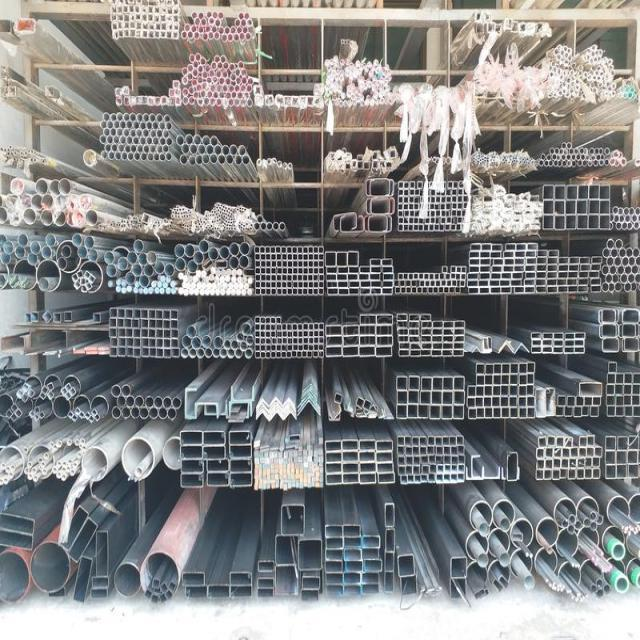pipe: (141, 552, 178, 604), (31, 543, 70, 592), (0, 552, 29, 604), (123, 438, 154, 480), (69, 517, 97, 562), (60, 506, 88, 549), (115, 563, 141, 596), (83, 448, 108, 480), (74, 558, 92, 602), (493, 500, 515, 532), (0, 514, 34, 534), (300, 540, 321, 571), (276, 537, 299, 565), (470, 501, 493, 528), (282, 506, 304, 534), (510, 549, 532, 577), (511, 520, 533, 548), (555, 528, 577, 555), (467, 532, 488, 560), (537, 518, 558, 546), (607, 497, 628, 524), (488, 560, 510, 585), (276, 568, 297, 594), (535, 548, 557, 572), (1, 532, 31, 549), (96, 531, 107, 575), (164, 439, 179, 468), (91, 397, 108, 418), (53, 396, 70, 417), (183, 572, 205, 585), (203, 446, 225, 459), (181, 474, 203, 487), (0, 395, 13, 417), (451, 579, 466, 598), (536, 389, 546, 417), (230, 432, 251, 445), (181, 446, 202, 459), (231, 460, 252, 473), (399, 558, 415, 575), (401, 578, 417, 595), (452, 558, 467, 576), (630, 495, 640, 522), (203, 433, 226, 444), (181, 432, 202, 444), (207, 473, 228, 485), (230, 474, 251, 486), (230, 446, 252, 457), (182, 461, 204, 472), (580, 384, 602, 395), (73, 396, 90, 410), (186, 587, 207, 598), (612, 542, 625, 559), (231, 573, 251, 584), (207, 460, 229, 470), (509, 454, 517, 481), (209, 587, 230, 597), (547, 389, 555, 415), (326, 573, 343, 585), (386, 504, 394, 528), (616, 575, 628, 591), (623, 311, 639, 323), (363, 536, 380, 547), (326, 586, 344, 596), (232, 587, 251, 596), (303, 577, 320, 587), (325, 526, 342, 536), (343, 526, 360, 536), (326, 549, 343, 559), (344, 573, 361, 583), (603, 325, 617, 337), (604, 340, 618, 352), (625, 339, 639, 351), (346, 561, 364, 570), (362, 573, 380, 582), (302, 590, 318, 600), (326, 561, 342, 571), (387, 530, 395, 550), (93, 577, 109, 587), (377, 452, 393, 462), (602, 311, 615, 323), (499, 552, 510, 566), (430, 405, 441, 419), (327, 538, 344, 547), (345, 549, 362, 558), (362, 549, 379, 558), (365, 561, 382, 570), (344, 586, 361, 595), (359, 441, 376, 450), (385, 573, 393, 592), (385, 553, 393, 572), (259, 562, 274, 572), (377, 441, 392, 451), (326, 326, 342, 335), (343, 326, 359, 335), (360, 325, 376, 334), (376, 326, 392, 335), (343, 336, 359, 345), (326, 347, 342, 356), (359, 451, 375, 460), (377, 463, 393, 472), (616, 464, 627, 477), (397, 391, 408, 404), (454, 392, 465, 405), (453, 406, 464, 419), (325, 253, 336, 266), (493, 578, 503, 592), (349, 252, 359, 266), (344, 538, 361, 546), (362, 585, 379, 593), (359, 464, 376, 472), (361, 315, 376, 324), (377, 315, 392, 324), (377, 347, 392, 356), (431, 392, 442, 404), (623, 325, 635, 336), (577, 201, 588, 213), (525, 575, 535, 588), (629, 437, 639, 450), (606, 451, 616, 464), (397, 377, 407, 390), (410, 377, 420, 390), (432, 378, 442, 391), (443, 378, 453, 391), (442, 391, 452, 404), (408, 405, 418, 418), (442, 406, 452, 419), (121, 405, 131, 418), (544, 200, 554, 213), (578, 216, 588, 229), (360, 337, 376, 345), (377, 337, 393, 345), (326, 442, 342, 450), (342, 441, 358, 449), (342, 453, 358, 461), (326, 464, 342, 472), (360, 474, 376, 482), (480, 522, 489, 536), (600, 216, 609, 230), (327, 337, 342, 345), (343, 348, 358, 356), (360, 347, 375, 355), (499, 576, 509, 588), (606, 437, 616, 449), (618, 438, 628, 450), (628, 451, 638, 463), (628, 465, 638, 477), (326, 452, 341, 460), (343, 464, 358, 472), (327, 475, 342, 483), (422, 378, 432, 390), (454, 378, 464, 390), (409, 391, 419, 403), (421, 392, 431, 404), (418, 405, 428, 417), (337, 253, 347, 265), (565, 216, 575, 228), (589, 216, 599, 228), (589, 202, 599, 214), (378, 474, 395, 481), (478, 553, 487, 566), (606, 465, 615, 478), (397, 405, 406, 418), (544, 186, 553, 199), (555, 216, 564, 229), (600, 200, 609, 213), (566, 200, 575, 213), (599, 186, 608, 199), (92, 590, 108, 597), (343, 475, 359, 482), (567, 187, 577, 198), (617, 451, 626, 463), (544, 216, 553, 228), (555, 202, 564, 214), (556, 187, 565, 199), (589, 186, 598, 198), (258, 579, 273, 586), (356, 397, 364, 410), (475, 589, 485, 599), (159, 407, 168, 418), (112, 385, 121, 396), (258, 590, 274, 596), (527, 396, 535, 408), (173, 397, 181, 409), (150, 406, 158, 418), (118, 394, 126, 406), (154, 397, 163, 407), (145, 397, 154, 407), (140, 408, 149, 418), (135, 397, 144, 407), (579, 187, 588, 197), (501, 519, 509, 530), (537, 448, 545, 459), (609, 362, 617, 373), (519, 397, 527, 408), (168, 408, 176, 419), (163, 397, 171, 408), (126, 396, 134, 407), (122, 385, 130, 396), (113, 407, 121, 418), (364, 399, 371, 411), (567, 397, 576, 406), (93, 313, 101, 323), (160, 583, 168, 593), (553, 448, 561, 458), (545, 460, 553, 470), (632, 373, 640, 383), (624, 385, 632, 395), (615, 384, 623, 394), (616, 396, 624, 406), (625, 407, 633, 417), (477, 364, 485, 374), (510, 364, 518, 374), (527, 363, 535, 373), (468, 387, 476, 397), (501, 397, 509, 407), (509, 397, 517, 407), (469, 409, 477, 419), (493, 408, 501, 418), (454, 328, 465, 335), (574, 407, 581, 418), (591, 406, 598, 417), (132, 407, 139, 418), (141, 338, 149, 347), (152, 579, 160, 588), (603, 584, 611, 593), (596, 588, 604, 597), (586, 448, 594, 457), (553, 459, 561, 468), (577, 459, 585, 468), (592, 469, 600, 478), (624, 375, 632, 384), (624, 396, 632, 405), (615, 408, 624, 416), (576, 397, 584, 406), (556, 407, 565, 415), (485, 365, 493, 374), (494, 365, 502, 374), (502, 365, 510, 374), (477, 376, 485, 385), (493, 376, 501, 385), (510, 375, 518, 384), (501, 386, 509, 395), (510, 386, 518, 395), (518, 386, 526, 395), (484, 398, 492, 407), (485, 408, 493, 417), (502, 409, 510, 418), (519, 409, 527, 418), (157, 348, 164, 358), (171, 338, 178, 348), (164, 348, 171, 358), (398, 335, 408, 342), (421, 335, 431, 342), (433, 329, 443, 336), (432, 349, 442, 356), (562, 448, 569, 458), (562, 459, 569, 469), (585, 468, 592, 478), (607, 384, 614, 394), (607, 395, 614, 405), (633, 396, 640, 406), (608, 406, 615, 416), (633, 407, 640, 417), (558, 396, 565, 406), (582, 407, 589, 417), (519, 364, 526, 374), (527, 374, 534, 384), (477, 408, 484, 418), (350, 281, 360, 288), (349, 288, 359, 295), (490, 280, 500, 287), (514, 287, 524, 294), (536, 286, 546, 293), (409, 314, 420, 320), (421, 322, 432, 328), (444, 322, 455, 328), (442, 350, 453, 356), (512, 534, 523, 540), (383, 274, 394, 280), (514, 266, 525, 272), (511, 280, 522, 286), (118, 347, 126, 355), (149, 329, 157, 337), (172, 349, 180, 357), (163, 339, 171, 347), (165, 591, 173, 599), (536, 471, 544, 479), (616, 375, 624, 383), (632, 385, 640, 393), (593, 397, 601, 405), (501, 376, 509, 384), (484, 387, 492, 395), (468, 399, 476, 407), (111, 308, 118, 317), (126, 309, 133, 318), (132, 319, 139, 328), (134, 329, 141, 338), (126, 338, 133, 347), (142, 348, 149, 357), (149, 348, 156, 357), (156, 338, 163, 347), (171, 329, 178, 338), (575, 520, 582, 529), (539, 438, 546, 447), (557, 438, 564, 447), (579, 448, 586, 457), (595, 448, 602, 457), (585, 458, 592, 467), (577, 469, 584, 478), (486, 376, 493, 385), (493, 387, 500, 396), (527, 386, 534, 395), (476, 398, 483, 407), (493, 398, 500, 407), (528, 409, 535, 418), (548, 258, 557, 265), (548, 272, 557, 279), (397, 314, 407, 320), (421, 314, 431, 320), (409, 321, 419, 327), (433, 322, 443, 328), (398, 329, 408, 335), (400, 343, 410, 349), (410, 336, 420, 342), (444, 329, 454, 335), (422, 344, 432, 350), (433, 343, 443, 349), (454, 344, 464, 350), (590, 511, 596, 521), (477, 387, 483, 397), (336, 394, 342, 404), (531, 333, 541, 339), (543, 333, 553, 339), (542, 340, 552, 346), (592, 257, 602, 263), (580, 258, 590, 264), (327, 267, 337, 273), (338, 267, 348, 273), (349, 267, 359, 273), (371, 266, 381, 272), (361, 281, 371, 287), (372, 281, 382, 287), (383, 281, 393, 287), (328, 289, 338, 295), (339, 289, 349, 295), (360, 288, 370, 294), (482, 245, 492, 251), (470, 252, 480, 258), (470, 259, 480, 265), (470, 266, 480, 272), (468, 280, 478, 286), (469, 287, 479, 293), (480, 287, 490, 293), (478, 280, 488, 286), (480, 259, 490, 265), (505, 258, 515, 264), (515, 259, 525, 265), (525, 288, 535, 294), (526, 265, 536, 271), (527, 258, 537, 264), (526, 251, 536, 257), (537, 258, 547, 264), (537, 265, 547, 271), (536, 279, 546, 285), (548, 266, 558, 272), (559, 265, 569, 271), (580, 265, 590, 271), (579, 272, 589, 278), (589, 272, 599, 278), (578, 286, 588, 292), (134, 310, 141, 318), (149, 310, 156, 318), (156, 311, 163, 319), (163, 310, 170, 318), (110, 329, 117, 337), (118, 338, 125, 346), (125, 319, 132, 327), (127, 348, 134, 356), (141, 320, 148, 328), (141, 329, 148, 337), (156, 330, 163, 338), (156, 320, 163, 328), (171, 320, 178, 328), (164, 330, 171, 338), (145, 590, 152, 598), (169, 582, 176, 590), (596, 579, 603, 587), (568, 515, 575, 523), (548, 437, 555, 445), (565, 439, 572, 447), (580, 438, 587, 446), (587, 437, 594, 445), (570, 449, 577, 457), (537, 461, 544, 469), (569, 460, 576, 468), (593, 458, 600, 466), (569, 470, 576, 478), (561, 469, 568, 477), (553, 470, 560, 478), (545, 470, 552, 478), (397, 437, 404, 445), (405, 437, 412, 445), (428, 437, 435, 445), (449, 437, 456, 445), (398, 447, 405, 455), (413, 447, 420, 455), (420, 446, 427, 454), (427, 447, 434, 455), (444, 447, 451, 455), (398, 456, 405, 464), (406, 457, 413, 465), (421, 456, 428, 464), (429, 457, 436, 465), (436, 456, 444, 463), (458, 456, 465, 464), (437, 466, 444, 474), (444, 465, 451, 473), (436, 475, 443, 483), (585, 397, 592, 405), (565, 407, 572, 415), (519, 375, 526, 383), (511, 409, 518, 417), (28, 389, 35, 397), (455, 323, 466, 328), (421, 330, 432, 335), (454, 336, 465, 341), (289, 435, 300, 440), (326, 275, 337, 280), (524, 280, 535, 285), (569, 266, 580, 271), (118, 308, 124, 317), (142, 310, 148, 319), (134, 348, 140, 357), (546, 448, 552, 457), (136, 467, 142, 476), (48, 382, 54, 391), (575, 340, 584, 346), (591, 264, 600, 270), (492, 266, 501, 272), (501, 280, 510, 286), (537, 273, 546, 279), (592, 286, 601, 292), (398, 322, 408, 327), (409, 330, 419, 335), (400, 351, 410, 356), (411, 344, 421, 349), (432, 337, 442, 342), (443, 337, 453, 342), (443, 344, 453, 349), (454, 351, 464, 356), (565, 334, 575, 339), (575, 333, 585, 338), (532, 340, 542, 345), (553, 341, 563, 346), (543, 347, 553, 352), (553, 348, 563, 353), (564, 347, 574, 352), (575, 347, 585, 352), (361, 267, 371, 272), (371, 260, 381, 265), (382, 260, 392, 265), (383, 267, 393, 272), (337, 275, 347, 280), (348, 274, 358, 279), (359, 274, 369, 279), (370, 274, 380, 279), (327, 282, 337, 287), (371, 289, 381, 294), (383, 288, 393, 293), (471, 245, 481, 250), (468, 274, 478, 279), (480, 274, 490, 279), (480, 267, 490, 272), (491, 252, 501, 257), (492, 246, 502, 251), (493, 260, 503, 265), (504, 252, 514, 257), (515, 252, 525, 257), (512, 273, 522, 278), (526, 273, 536, 278), (528, 245, 538, 250), (537, 251, 547, 256), (548, 251, 558, 256), (547, 280, 557, 285), (548, 286, 558, 291), (559, 258, 569, 263), (558, 287, 568, 292), (578, 280, 588, 285), (435, 438, 442, 445), (405, 467, 412, 474), (413, 466, 420, 473), (171, 311, 177, 319), (110, 319, 116, 327), (111, 338, 117, 346), (111, 348, 117, 356), (119, 328, 125, 336), (118, 319, 124, 327), (126, 328, 132, 336), (134, 338, 140, 346), (150, 320, 156, 328), (150, 339, 156, 347), (584, 518, 590, 526), (413, 437, 419, 445), (443, 437, 449, 445), (457, 437, 463, 445), (406, 447, 412, 455), (451, 447, 457, 455), (414, 457, 420, 465), (451, 456, 457, 464), (399, 466, 405, 474), (423, 466, 429, 474), (458, 465, 464, 473), (401, 476, 407, 484), (415, 475, 421, 483), (422, 475, 428, 483), (429, 475, 435, 483), (65, 383, 71, 391), (47, 391, 53, 399), (23, 383, 29, 391), (22, 394, 28, 402), (16, 409, 22, 417), (502, 287, 510, 293), (554, 334, 563, 339), (565, 341, 574, 346), (532, 347, 541, 352), (339, 282, 348, 287), (480, 252, 489, 257), (492, 274, 501, 279), (502, 274, 511, 279), (558, 273, 567, 278), (558, 279, 567, 284), (569, 273, 578, 278), (570, 259, 579, 264), (591, 280, 600, 285), (421, 350, 432, 354), (151, 595, 157, 602), (160, 594, 166, 601), (597, 516, 603, 523), (591, 522, 597, 529), (568, 525, 574, 532), (437, 447, 443, 454), (444, 457, 451, 463), (430, 466, 436, 473), (451, 465, 457, 472), (451, 474, 457, 481), (42, 386, 48, 393), (17, 390, 23, 397), (6, 410, 12, 417), (11, 414, 17, 421), (164, 320, 169, 328), (412, 351, 420, 356), (591, 583, 596, 591), (421, 438, 426, 446), (458, 446, 463, 454), (408, 475, 413, 483), (70, 387, 75, 395), (491, 289, 501, 293), (504, 266, 514, 270), (506, 245, 516, 249), (516, 245, 526, 249), (562, 521, 568, 527), (444, 475, 450, 481), (34, 407, 40, 413), (29, 411, 35, 417), (292, 351, 298, 357), (276, 247, 282, 253), (568, 280, 577, 284), (72, 414, 77, 421), (68, 411, 73, 418), (39, 411, 44, 418), (12, 404, 17, 411), (304, 338, 309, 345), (288, 268, 293, 275), (287, 282, 292, 289), (548, 546, 552, 554), (569, 287, 577, 291), (458, 475, 463, 481), (70, 469, 75, 475), (61, 474, 66, 480), (38, 457, 43, 463), (92, 409, 97, 415), (75, 408, 80, 414), (62, 388, 67, 394), (66, 392, 71, 398), (40, 392, 45, 398), (34, 414, 39, 420), (276, 325, 282, 330), (255, 331, 260, 337), (260, 331, 265, 337), (266, 331, 271, 337), (271, 331, 276, 337), (277, 331, 282, 337), (293, 331, 298, 337), (319, 331, 324, 337), (255, 338, 260, 344), (261, 339, 266, 345), (266, 339, 271, 345), (272, 339, 277, 345), (288, 338, 293, 344), (287, 345, 293, 350), (271, 352, 276, 358), (276, 352, 281, 358), (255, 247, 260, 253), (260, 247, 265, 253), (266, 247, 271, 253), (287, 247, 292, 253), (319, 247, 324, 253), (255, 254, 260, 260), (271, 254, 276, 260), (276, 254, 281, 260), (261, 261, 266, 267), (255, 261, 260, 267), (266, 261, 271, 267), (271, 261, 276, 267), (282, 261, 287, 267), (293, 261, 298, 267), (313, 261, 318, 267), (319, 261, 324, 267), (277, 268, 282, 274), (283, 268, 288, 274), (293, 268, 298, 274), (308, 268, 313, 274), (314, 268, 319, 274), (319, 268, 324, 274), (266, 275, 271, 281), (276, 275, 281, 281), (282, 275, 287, 281), (287, 275, 292, 281), (303, 275, 308, 281), (308, 275, 313, 281), (319, 275, 324, 281), (266, 283, 271, 289), (271, 282, 276, 288), (266, 289, 271, 295), (277, 289, 282, 295), (303, 289, 308, 295), (394, 280, 399, 286), (461, 274, 466, 280), (399, 190, 404, 196), (418, 182, 423, 188), (423, 225, 428, 231), (365, 162, 370, 168), (373, 153, 378, 159), (24, 446, 28, 453), (1, 462, 5, 469), (9, 471, 13, 478), (90, 415, 94, 422), (86, 412, 90, 419), (256, 352, 260, 359), (282, 352, 286, 359), (57, 461, 62, 466), (24, 468, 29, 473), (39, 465, 44, 470), (95, 415, 100, 420), (80, 412, 85, 417), (260, 318, 265, 323), (265, 318, 270, 323), (271, 318, 276, 323), (276, 318, 281, 323), (255, 324, 260, 329), (260, 324, 265, 329), (266, 325, 271, 330), (271, 324, 276, 329), (287, 325, 292, 330), (292, 325, 297, 330), (303, 325, 308, 330), (308, 325, 313, 330), (314, 325, 319, 330), (283, 332, 288, 337), (298, 332, 303, 337), (303, 332, 308, 337), (309, 331, 314, 336), (314, 332, 319, 337), (282, 338, 287, 343), (298, 339, 303, 344), (309, 339, 314, 344), (314, 338, 319, 343), (255, 346, 260, 351), (261, 346, 266, 351), (266, 345, 271, 350), (276, 345, 281, 350), (281, 345, 286, 350), (294, 346, 299, 351), (304, 345, 309, 350), (319, 346, 324, 351), (302, 352, 307, 357), (313, 352, 318, 357), (319, 352, 324, 357), (292, 248, 297, 253), (298, 248, 303, 253), (303, 248, 308, 253), (309, 248, 314, 253), (266, 255, 271, 260), (282, 254, 287, 259), (287, 255, 292, 260), (298, 255, 303, 260), (308, 255, 313, 260), (303, 262, 308, 267), (261, 268, 266, 273), (266, 268, 271, 273), (271, 275, 276, 280), (298, 275, 303, 280), (293, 283, 298, 288), (308, 282, 313, 287), (313, 282, 318, 287), (261, 289, 266, 294), (287, 290, 292, 295), (414, 274, 419, 279), (424, 274, 429, 279), (456, 267, 461, 272), (447, 281, 452, 286), (396, 288, 401, 293), (406, 288, 411, 293), (417, 288, 422, 293), (428, 288, 433, 293), (439, 288, 444, 293), (450, 288, 455, 293), (399, 182, 404, 187), (404, 183, 409, 188), (404, 198, 409, 203), (404, 205, 409, 210), (398, 211, 403, 216), (399, 226, 404, 231), (409, 204, 414, 209), (410, 183, 415, 188), (456, 225, 461, 230), (430, 212, 435, 217), (441, 211, 446, 216), (446, 211, 451, 216), (446, 204, 451, 209), (446, 190, 451, 195), (452, 190, 457, 195), (458, 190, 463, 195), (454, 183, 459, 188), (448, 183, 453, 188), (358, 156, 363, 161), (358, 164, 363, 169), (75, 439, 79, 445), (82, 445, 86, 451), (58, 440, 62, 446), (63, 461, 67, 467), (50, 441, 54, 447), (44, 452, 48, 458), (28, 472, 32, 478), (32, 467, 36, 473), (28, 461, 32, 467), (4, 477, 8, 483), (256, 317, 260, 323), (283, 325, 287, 331), (294, 338, 298, 344), (272, 345, 276, 351), (287, 352, 291, 358), (298, 351, 302, 357), (272, 247, 276, 253), (282, 247, 286, 253), (314, 247, 318, 253), (303, 255, 307, 261), (277, 261, 281, 267), (289, 261, 293, 267), (319, 254, 323, 260), (256, 268, 260, 274), (256, 275, 260, 281), (261, 275, 265, 281), (314, 275, 318, 281), (319, 282, 323, 288), (256, 289, 260, 295), (283, 289, 287, 295), (443, 267, 447, 273), (415, 190, 419, 196), (0, 478, 3, 485), (68, 440, 72, 445), (68, 459, 72, 464), (73, 462, 77, 467), (66, 466, 70, 471), (62, 467, 66, 472), (57, 472, 61, 477), (53, 467, 57, 472), (53, 445, 57, 450), (6, 466, 10, 471), (298, 325, 302, 330), (319, 325, 323, 330), (288, 332, 292, 337), (319, 338, 323, 343), (299, 345, 303, 350), (309, 345, 313, 350), (314, 345, 318, 350), (261, 352, 265, 357), (266, 352, 270, 357), (307, 352, 311, 357), (293, 255, 297, 260), (314, 255, 318, 260), (299, 262, 303, 267), (309, 262, 313, 267), (271, 269, 275, 274), (299, 269, 303, 274), (304, 269, 308, 274), (293, 275, 297, 280), (256, 282, 260, 287), (261, 282, 265, 287), (277, 282, 281, 287), (282, 282, 286, 287), (298, 282, 302, 287), (304, 282, 308, 287), (271, 290, 275, 295), (293, 289, 297, 294), (298, 289, 302, 294), (309, 289, 313, 294), (314, 289, 318, 294), (319, 289, 323, 294), (399, 274, 403, 279), (404, 275, 408, 280), (409, 274, 413, 279), (419, 274, 424, 278), (446, 274, 450, 279), (456, 275, 460, 280), (400, 281, 404, 286), (412, 281, 416, 286), (425, 282, 430, 286), (441, 282, 446, 286), (401, 288, 405, 293), (412, 288, 417, 292), (434, 288, 439, 292), (444, 289, 449, 293), (455, 289, 460, 293), (404, 190, 408, 195), (399, 198, 403, 203), (398, 205, 402, 210), (405, 212, 409, 217), (399, 218, 403, 223), (404, 218, 408, 223), (404, 226, 408, 231), (409, 226, 413, 231), (409, 218, 413, 223), (410, 197, 414, 202), (410, 190, 414, 195), (415, 198, 419, 203), (415, 212, 419, 217), (425, 219, 430, 223), (430, 226, 434, 231), (440, 225, 444, 230), (452, 211, 456, 216), (463, 197, 467, 202), (441, 204, 445, 209), (458, 197, 462, 202), (452, 197, 457, 201), (447, 197, 451, 202), (442, 197, 446, 202), (436, 197, 440, 202), (460, 183, 464, 188), (346, 163, 350, 168), (374, 162, 378, 167), (43, 468, 46, 474), (278, 338, 281, 344), (421, 280, 424, 286), (457, 281, 460, 287), (81, 439, 85, 443), (34, 476, 38, 480), (41, 462, 45, 466), (261, 254, 265, 258), (452, 274, 456, 278), (406, 281, 410, 285), (436, 282, 440, 286), (453, 282, 457, 286), (423, 288, 427, 292), (415, 204, 419, 208), (414, 219, 418, 223), (414, 226, 418, 230), (435, 226, 439, 230), (446, 226, 450, 230), (452, 225, 456, 229), (458, 218, 462, 222), (452, 218, 456, 222), (453, 204, 457, 208), (431, 198, 435, 202), (78, 453, 81, 458), (440, 275, 445, 278), (452, 267, 455, 272), (416, 281, 419, 286), (431, 281, 434, 286), (411, 212, 414, 217), (420, 225, 423, 230), (436, 218, 439, 223), (442, 218, 445, 223), (448, 219, 451, 224), (457, 211, 460, 216), (427, 212, 430, 217), (436, 212, 441, 215), (432, 190, 435, 195), (442, 190, 445, 195), (353, 162, 356, 167), (80, 444, 83, 448), (12, 466, 15, 470), (430, 275, 433, 279), (435, 275, 438, 279), (462, 268, 465, 272), (461, 282, 464, 286), (419, 219, 422, 223), (431, 219, 434, 223), (462, 212, 465, 216), (464, 203, 467, 207), (431, 205, 434, 209), (436, 205, 439, 209), (458, 204, 461, 208)
